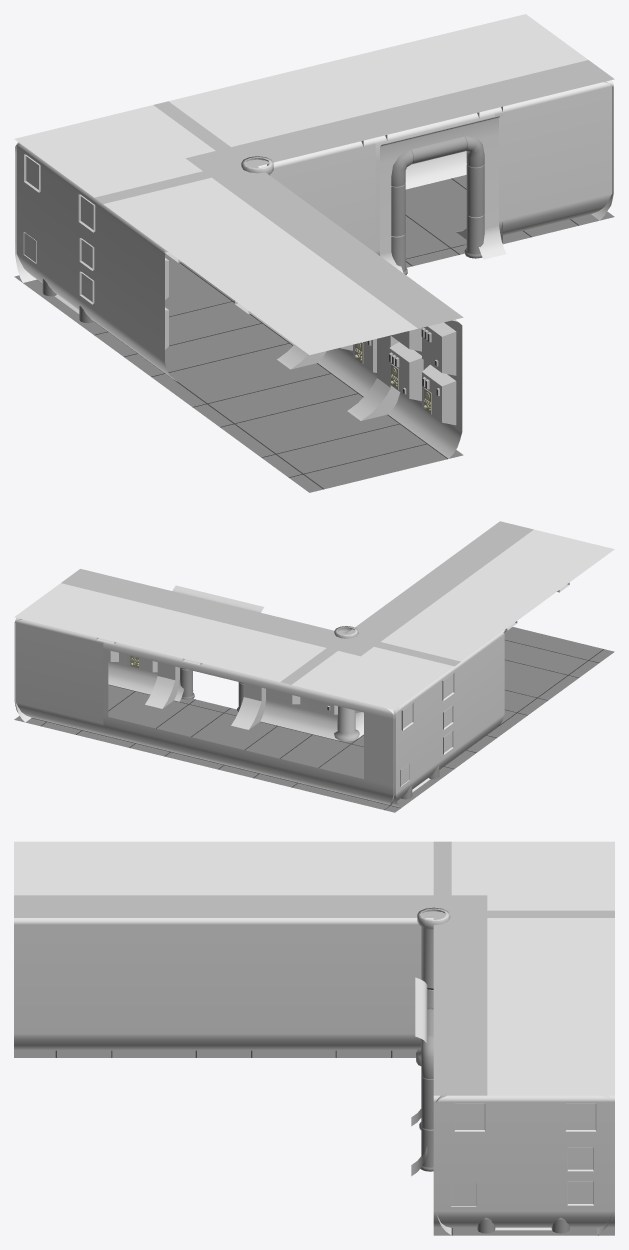
Rendered from SW_ship_test.fbx.
3 renders of one model, top to bottom at view 1: azimuth 30°, elevation 25°; view 2: azimuth 150°, elevation 25°; view 3: azimuth 270°, elevation 25°, orthographic. The views are drawn at different scales.
Parts seen in each view (by area): view 1: SW_CorridorT1, SW_Corner_Ceiling, sw_SHIP_dOOR1, pCube70, pCube69, pCube40, SW_ShipCeling, pCube66, pCube62, pCube68, pCube67, SW_CorridorT15 (+13 smaller); view 2: SW_CorridorT9, SW_Corner_Ceiling, sw_SHIP_dOOR1, pCube70, pCube69, SW_ShipCeling, pCube40, pCube66, pCube62, SW_CorridorT12, pCube68, SW_CorridorT15 (+15 smaller); view 3: sw_SHIP_dOOR, SW_CorridorT5, SW_CorridorT6, SW_CorridorT3, SW_Corner_Ceiling, SW_ShipCeling, pCube40, pCube62, pCube66, pCube69, pCube70, pCylinder3 (+6 smaller).
Part boxes in pixels (bbox=[...]): SW_CorridorT1: bbox=[492, 80, 613, 235]; SW_Corner_Ceiling: bbox=[14, 101, 257, 203]; sw_SHIP_dOOR1: bbox=[16, 142, 112, 334]; pCube70: bbox=[241, 267, 463, 355]; pCube69: bbox=[172, 217, 394, 304]; pCube40: bbox=[288, 43, 495, 137]; SW_ShipCeling: bbox=[407, 14, 614, 108]; pCube66: bbox=[103, 166, 325, 254]; pCube62: bbox=[168, 72, 376, 166]; pCube68: bbox=[241, 414, 463, 492]; pCube67: bbox=[172, 363, 363, 442]; SW_CorridorT15: bbox=[96, 201, 176, 380]; SW_CorridorT9: bbox=[14, 618, 108, 736]; SW_Corner_Ceiling: bbox=[280, 633, 460, 709]; sw_SHIP_dOOR1: bbox=[385, 667, 459, 808]; pCube70: bbox=[449, 521, 614, 586]; pCube69: bbox=[398, 559, 563, 623]; SW_ShipCeling: bbox=[14, 569, 168, 638]; pCube40: bbox=[103, 590, 257, 660]; pCube66: bbox=[347, 596, 512, 661]; pCube62: bbox=[192, 612, 345, 681]; SW_CorridorT12: bbox=[281, 683, 400, 807]; pCube68: bbox=[503, 627, 614, 689]; SW_CorridorT15: bbox=[452, 631, 504, 758]; sw_SHIP_dOOR: bbox=[433, 1095, 614, 1233]; SW_CorridorT5: bbox=[14, 918, 153, 1050]; SW_CorridorT6: bbox=[154, 918, 293, 1050]; SW_CorridorT3: bbox=[293, 918, 433, 1050]; SW_Corner_Ceiling: bbox=[433, 841, 614, 917]; SW_ShipCeling: bbox=[433, 1036, 614, 1095]; pCube40: bbox=[433, 977, 614, 1036]; pCube62: bbox=[433, 918, 614, 977]; pCube66: bbox=[293, 841, 433, 917]; pCube69: bbox=[154, 841, 293, 917]; pCube70: bbox=[14, 841, 153, 917]; pCylinder3: bbox=[419, 1007, 433, 1171].
Size of the model in its own units: 21.5 by 5.78 by 21.48.
